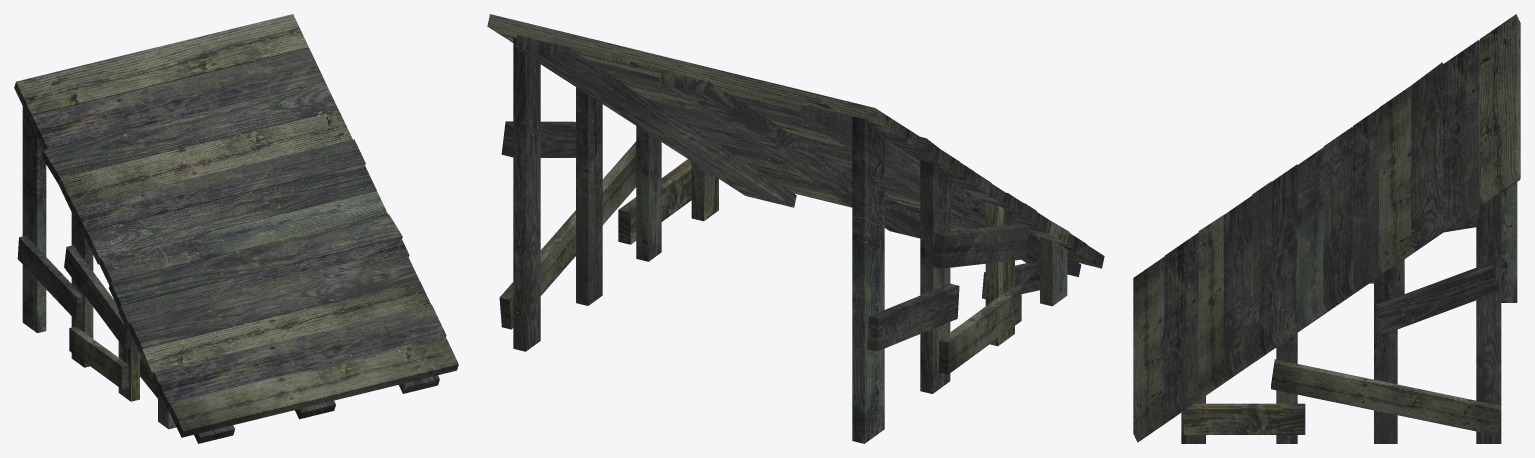
File: OldWoodenRamp 1.5m.fbx
3 renders of one model, left to right at view 1: azimuth 30°, elevation 25°; view 2: azimuth 150°, elevation 25°; view 3: azimuth 270°, elevation 25°, orthographic. The views are drawn at different scales.
Visible parts, largest first — view 1: OldWoodenRamp_1_5m; view 2: OldWoodenRamp_1_5m; view 3: OldWoodenRamp_1_5m.
Boxes of the visible parts, x1,y1,x2,y2 form: OldWoodenRamp_1_5m: (14, 14, 458, 443); OldWoodenRamp_1_5m: (487, 14, 1104, 443); OldWoodenRamp_1_5m: (1133, 14, 1520, 443).
Bounding box in the file's own units: 1.96 × 1.62 × 2.
